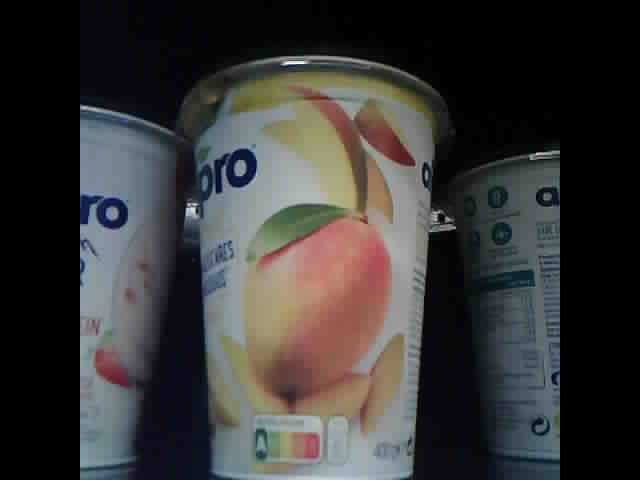alpro: (180, 56, 448, 480), (79, 97, 183, 470), (449, 142, 561, 462)
